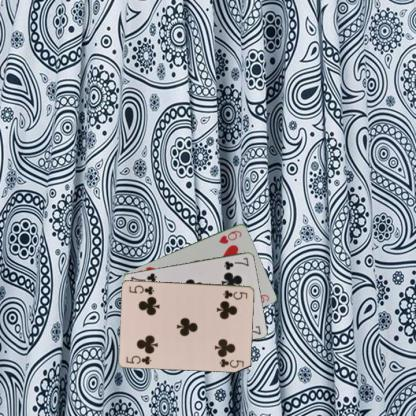5c: (124, 353, 152, 366), (221, 288, 248, 300)
6h: (216, 228, 243, 245)
7c: (221, 255, 250, 271)
